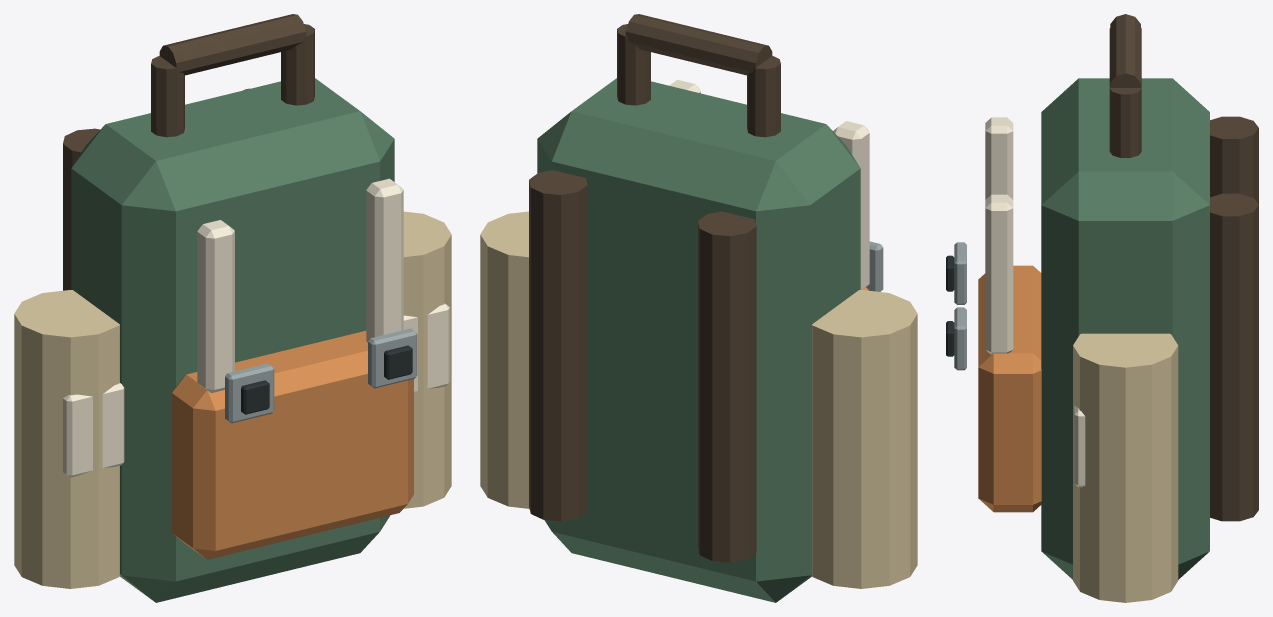
Rendered from Backpack_A.glb.
3 renders of one model, left to right at view 1: azimuth 30°, elevation 25°; view 2: azimuth 150°, elevation 25°; view 3: azimuth 270°, elevation 25°, orthographic. The views are drawn at different scales.
Visible parts, largest first — view 1: Backpack_A; view 2: Backpack_A; view 3: Backpack_A.
Part boxes in pixels (box(x1,y1,x2,y2)): Backpack_A: box(14, 14, 451, 602); Backpack_A: box(480, 14, 917, 602); Backpack_A: box(946, 14, 1258, 602).
Bounding box in the file's own units: 0.65 × 0.778 × 0.446.
